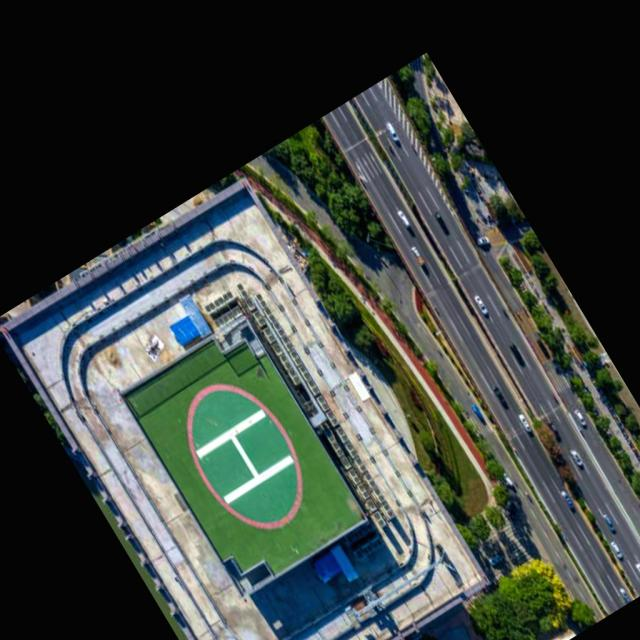helipad: (178, 377, 308, 534)
